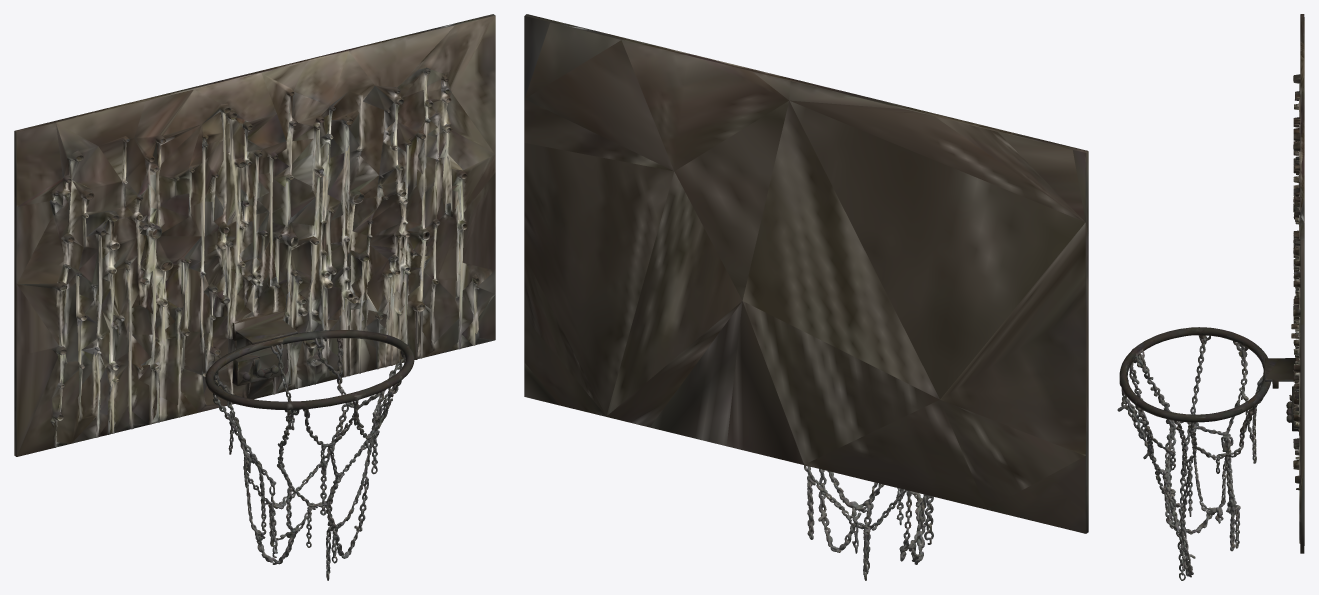
Rendered from scars-of-the-game.glb.
3 views of the same model, side by side, from view 1: azimuth 30°, elevation 25°; view 2: azimuth 150°, elevation 25°; view 3: azimuth 270°, elevation 25° (orthographic). The views are drawn at different scales.
Visible parts, largest first — view 1: Mesh_0; view 2: Mesh_0; view 3: Mesh_0.
Part boxes in pixels (box(x1,y1,x2,y2)): Mesh_0: box(14, 14, 495, 580); Mesh_0: box(524, 14, 1088, 580); Mesh_0: box(1117, 14, 1304, 580).
Size of the model in its own units: 1.6 by 1.48 by 0.5598.
1 material, 1 textured.
